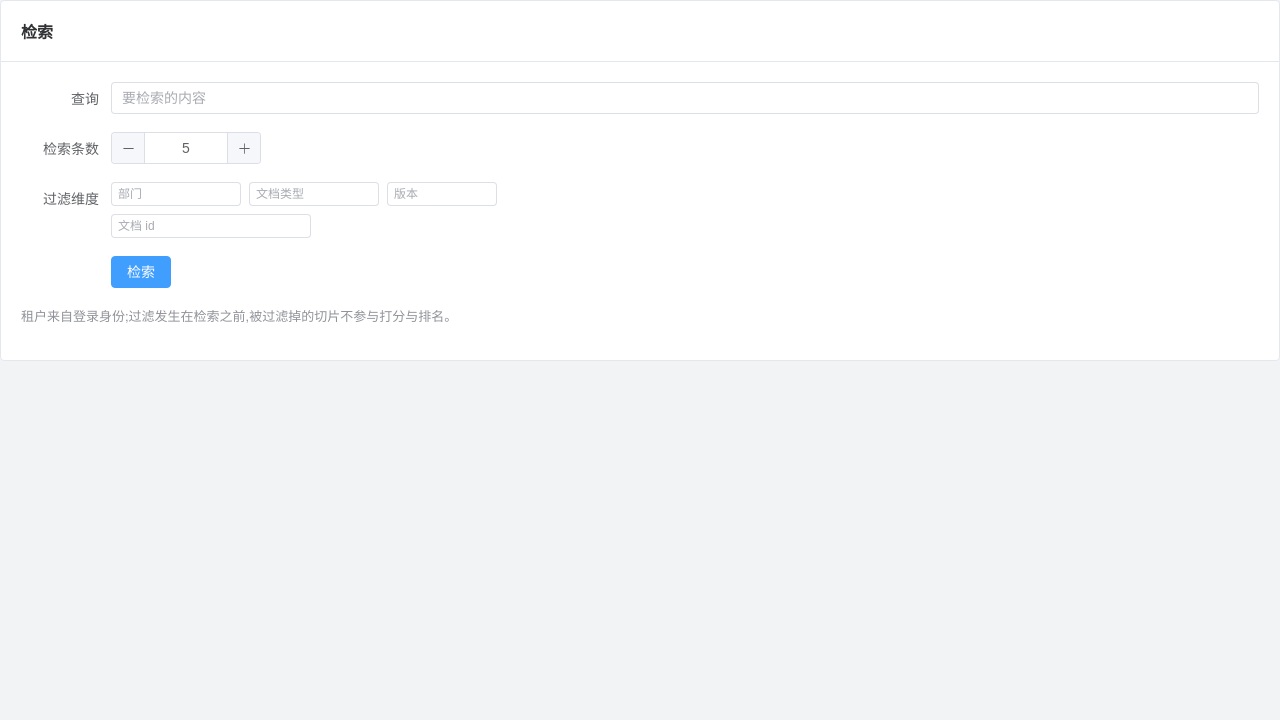
Test case: 检索与运营统计页组件行为 › 检索页 › 按过滤维度检索,提交参数并渲染部门 / 文档类型 / 版本列
Step 1. Type "年假怎么算?" into the field with test id "search-query" → (685, 98), box [122,83,1248,113]
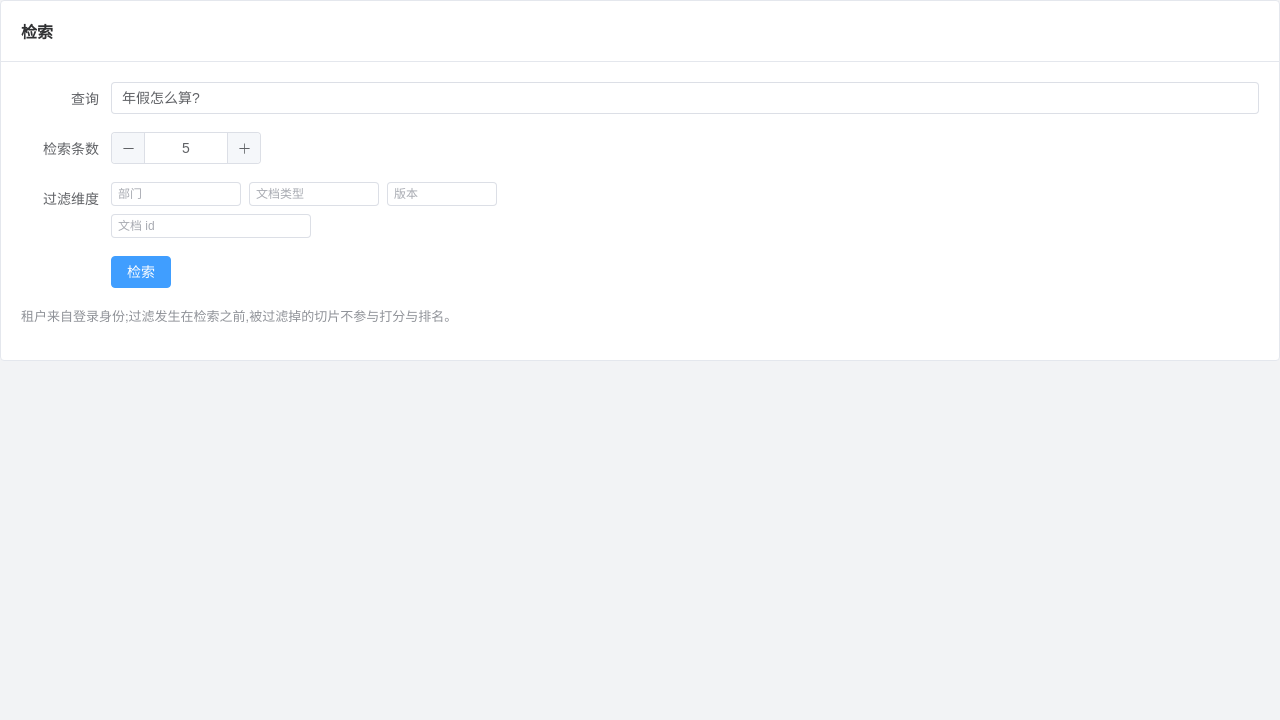
Step 2. Type "研发部" into the field with test id "search-filter-department" → (176, 194), box [118,183,234,205]
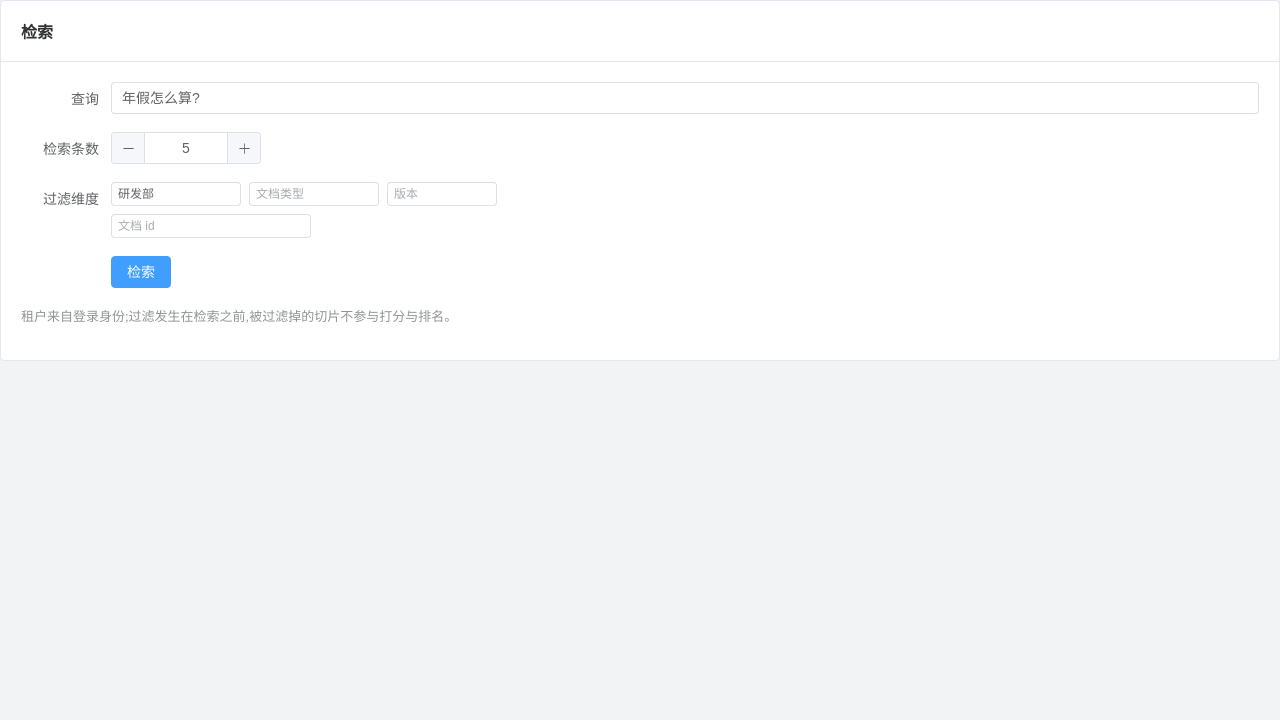
Step 3. Type "制度" into the field with test id "search-filter-doc-type" → (314, 194), box [256,183,372,205]
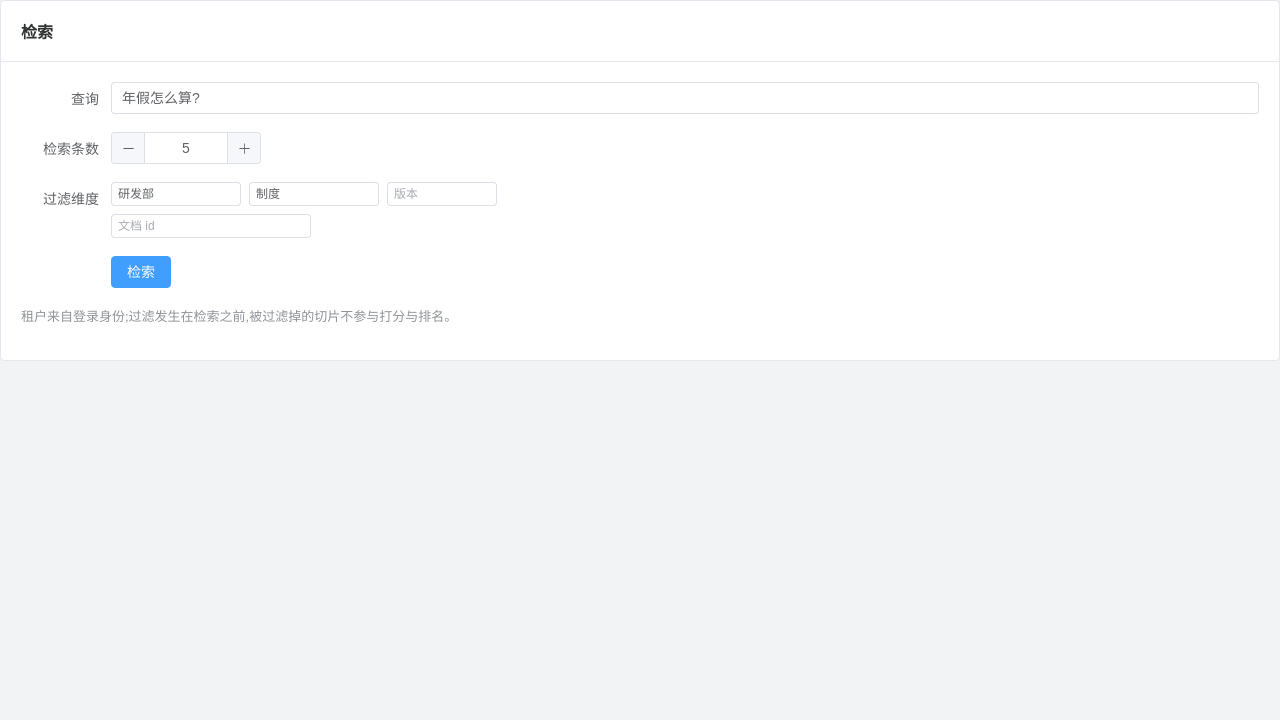
Step 4. Type "v2" into the field with test id "search-filter-version" → (442, 194), box [394,183,490,205]
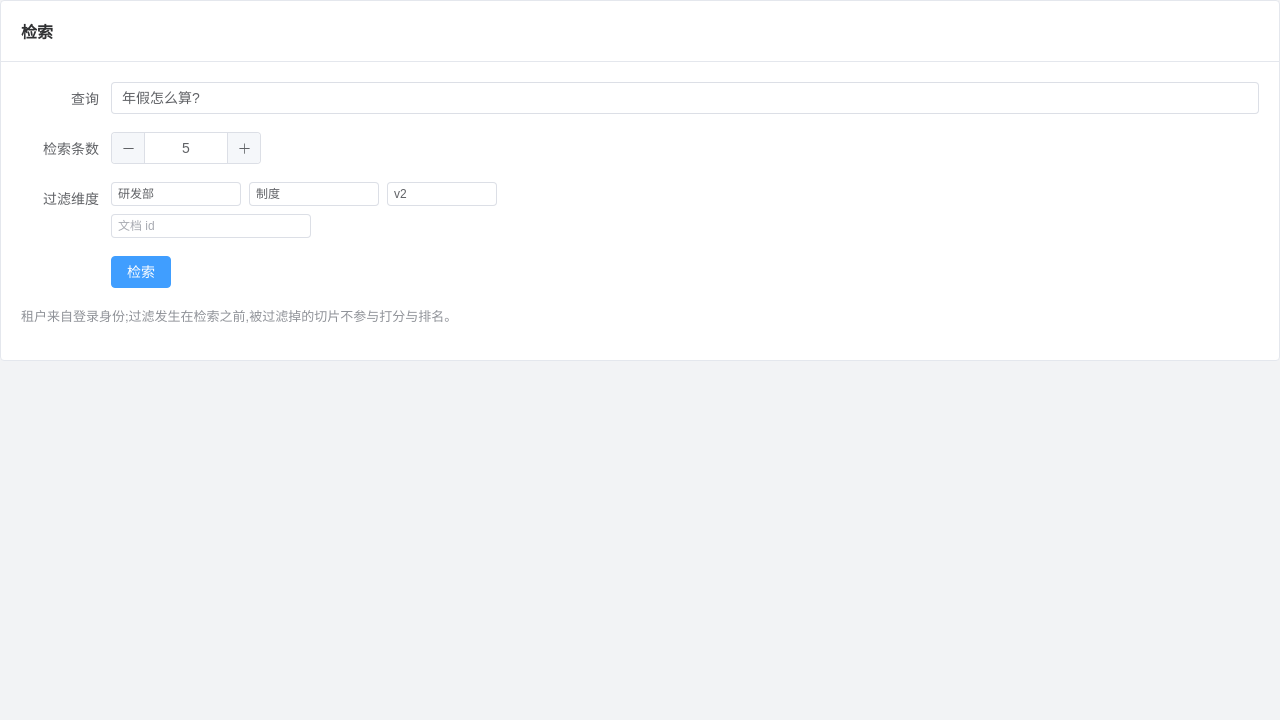
Step 5. Click the button with test id "search-submit" → click(141, 272), box [111,256,171,288]
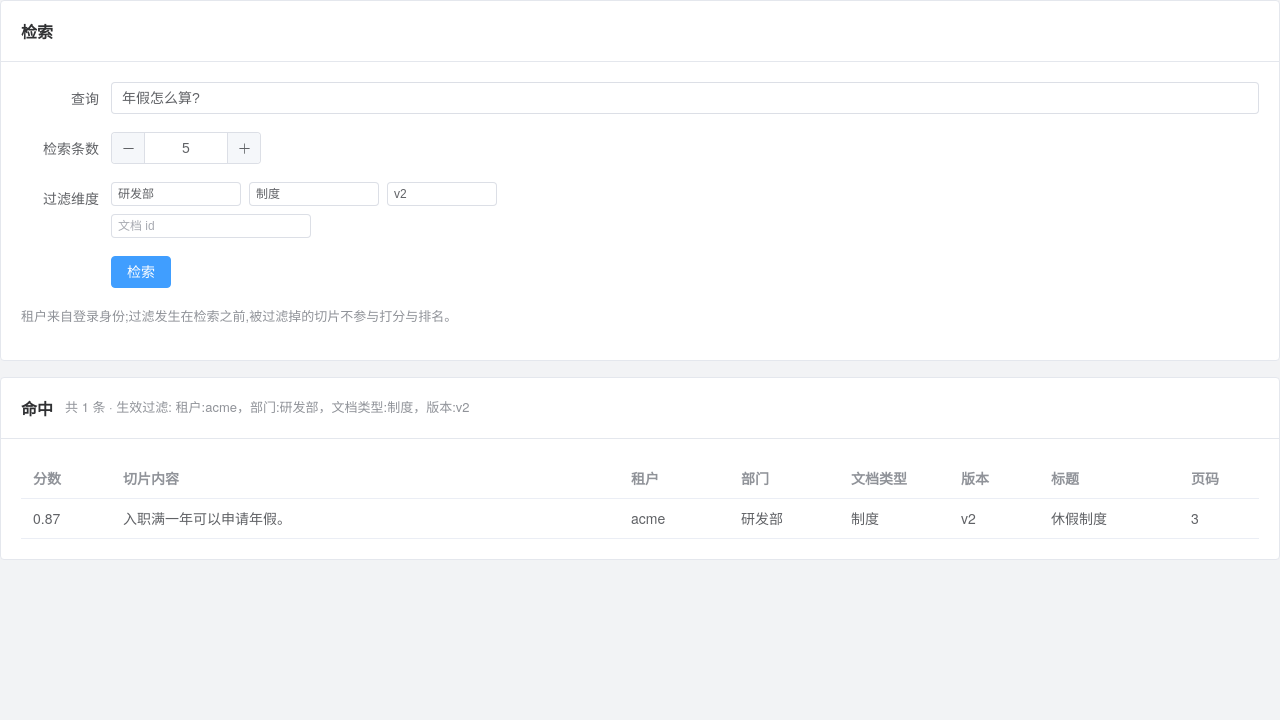
Check: the text "研发部" is shown, box [741,508,783,528]
Check: the row "0.87 入职满一年可以申请年假。 acme 研发部 制度 v2 休假制度 3" is shown, box [21,499,1259,539]
Check: the text "部门:研发部" is shown, box [65,397,470,416]
